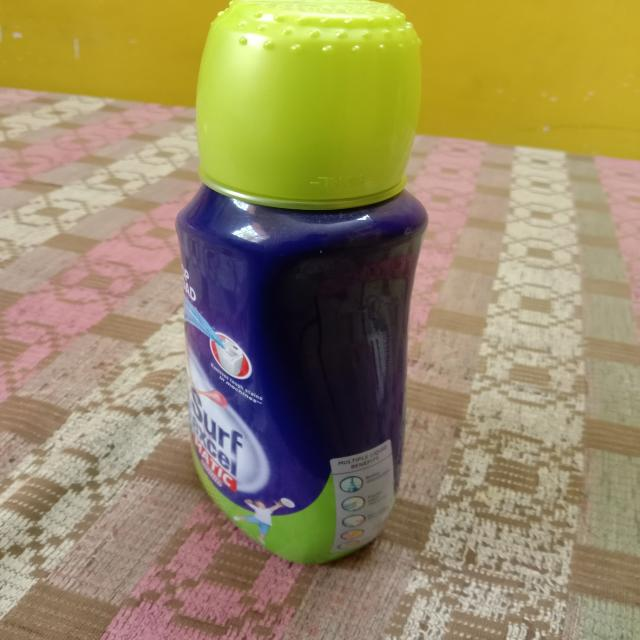detergent: (179, 1, 431, 572)
